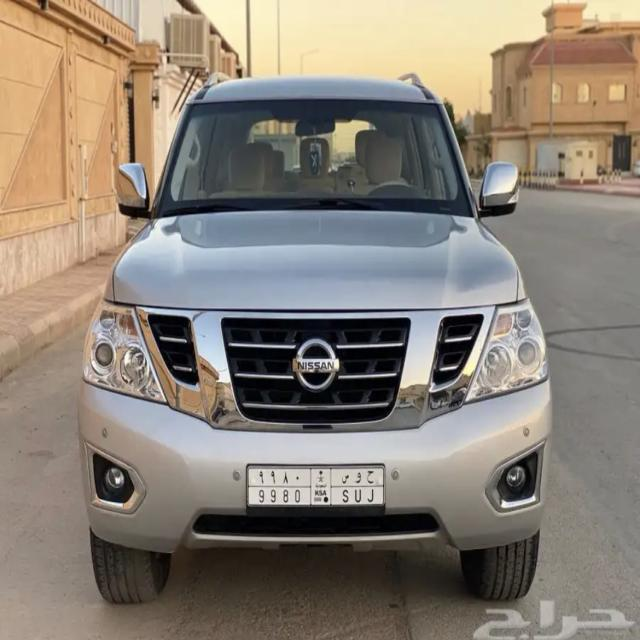license_plate: (247, 465, 390, 512)
